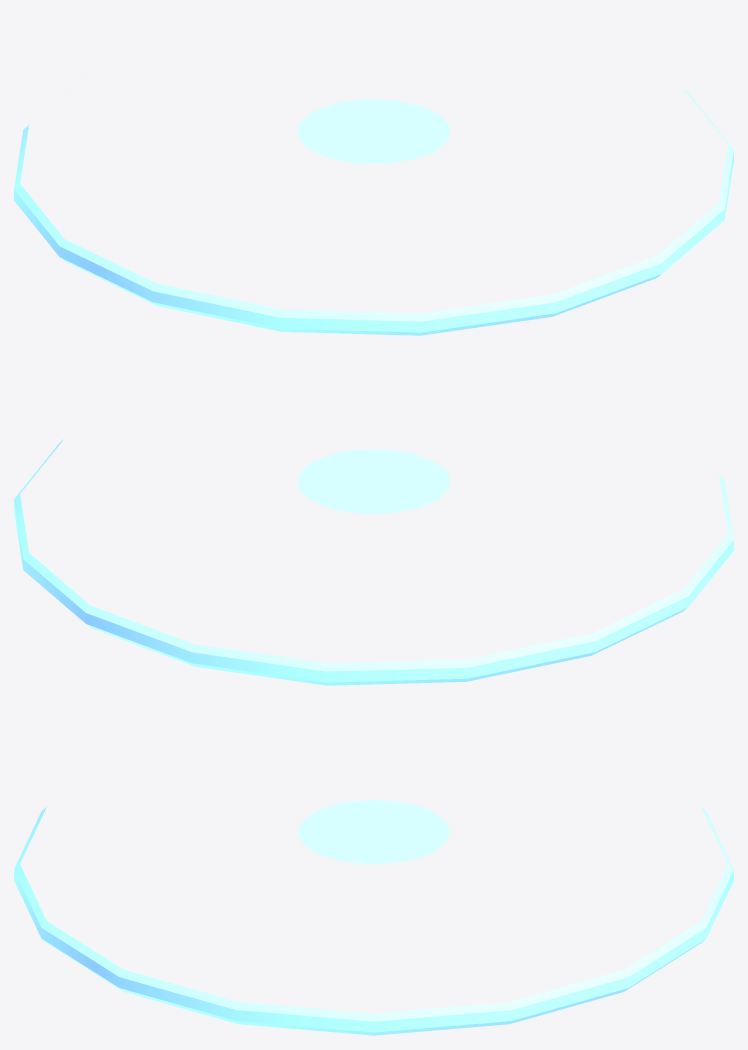
The model's file is blueGlow.glb.
3 views of the same model, one above another, from view 1: azimuth 30°, elevation 25°; view 2: azimuth 150°, elevation 25°; view 3: azimuth 270°, elevation 25° (orthographic).
Visible parts, largest first — view 1: blueGlow; view 2: blueGlow; view 3: blueGlow.
Boxes of the visible parts, box(x1,y1,x2,y2) form: blueGlow: box(14, 89, 733, 335); blueGlow: box(14, 439, 733, 685); blueGlow: box(14, 799, 733, 1035).
Bounding box in the file's own units: 0.4906 × 0.0645 × 0.4906.
